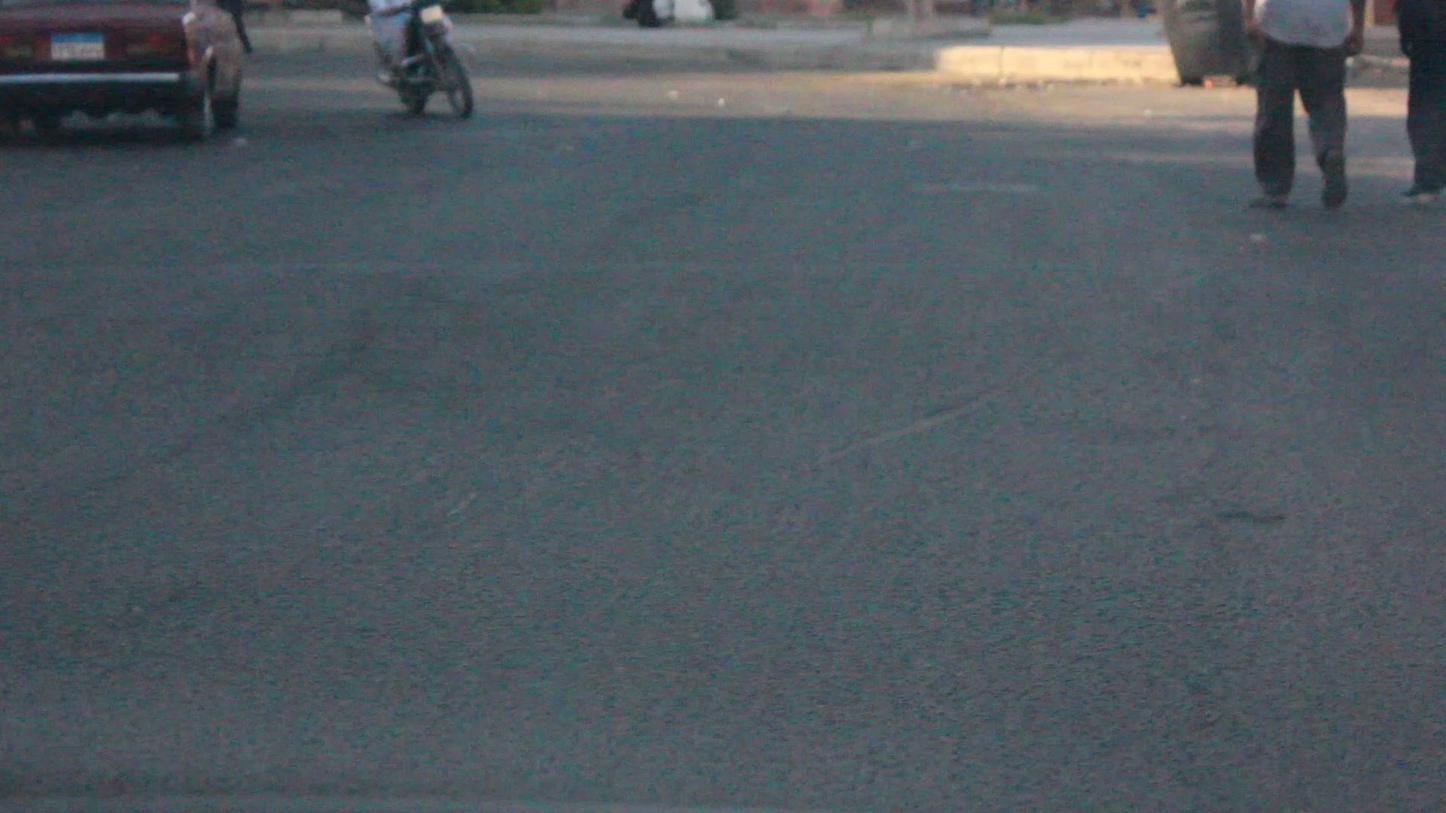Bump: (0, 243, 1446, 367)
